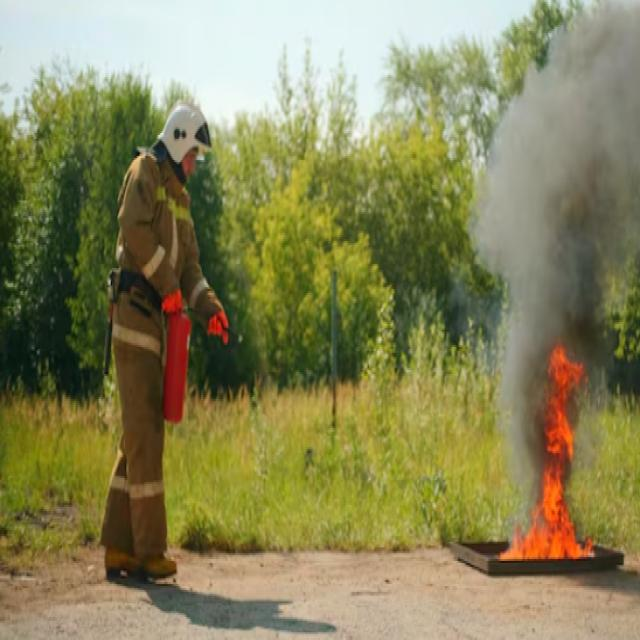fire extinguisher: (162, 296, 195, 426)
helmet: (162, 103, 218, 164)
